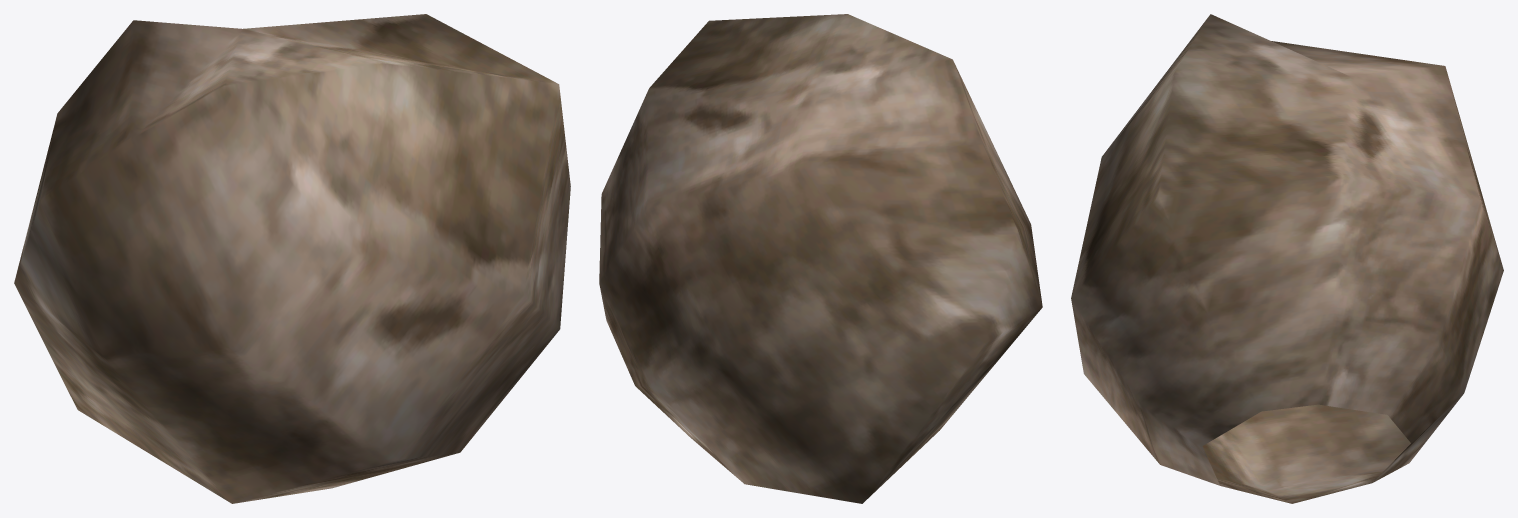
File: OVERHILL_A_01_ROCK87.fbx
3 renders of one model, left to right at view 1: azimuth 30°, elevation 25°; view 2: azimuth 150°, elevation 25°; view 3: azimuth 270°, elevation 25°, orthographic. The views are drawn at different scales.
Parts seen in each view (by area): view 1: OVERHILL_A_01_ROCK87; view 2: OVERHILL_A_01_ROCK87; view 3: OVERHILL_A_01_ROCK87.
Boxes of the visible parts, x1,y1,x2,y2 form: OVERHILL_A_01_ROCK87: (14, 14, 570, 503); OVERHILL_A_01_ROCK87: (599, 14, 1042, 503); OVERHILL_A_01_ROCK87: (1071, 14, 1503, 503).
Bounding box in the file's own units: 6402 × 5876 × 5529.
1 material, 1 textured.
